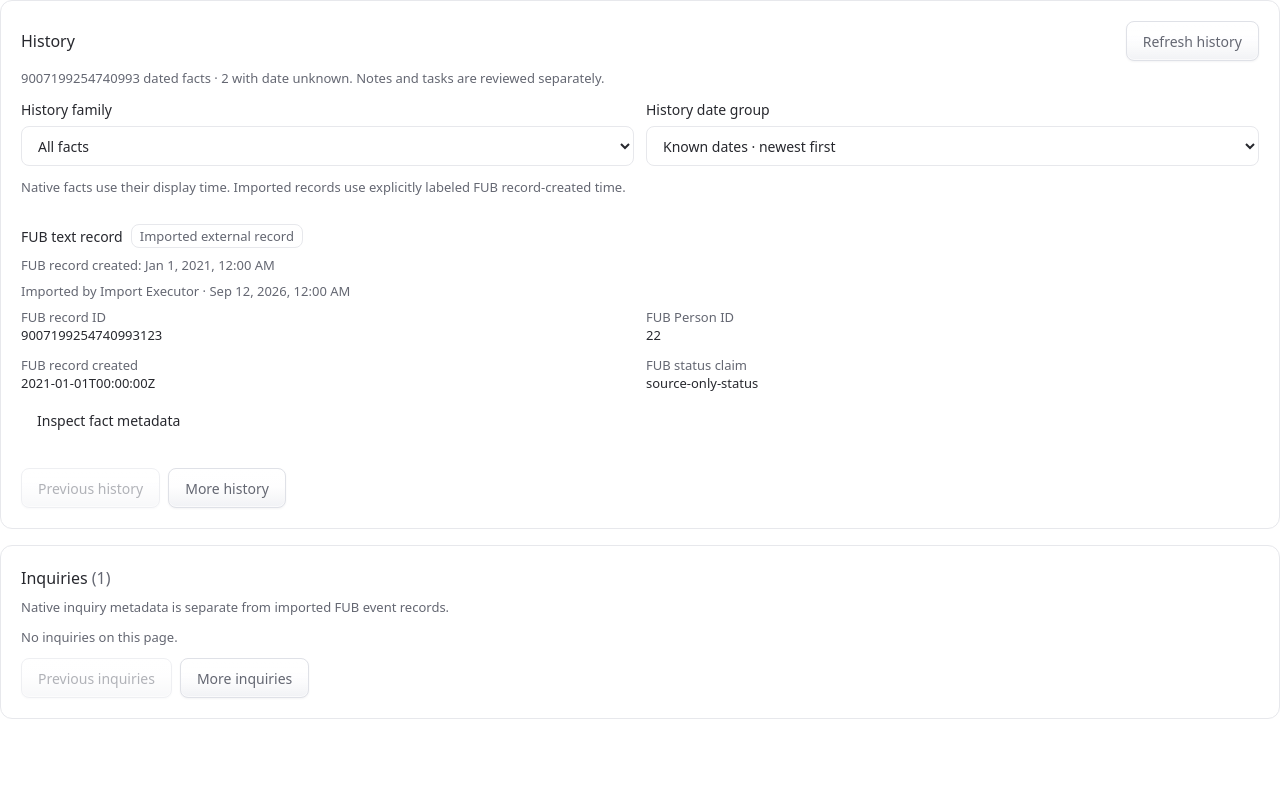
Scenario: bounded historical Person review › rejects a server revision mismatch and does not silently accept a newer first page
The width and height of the screenshot is (1280, 800).
Click the button "More history" at [227, 488], box [168,468,286,508]
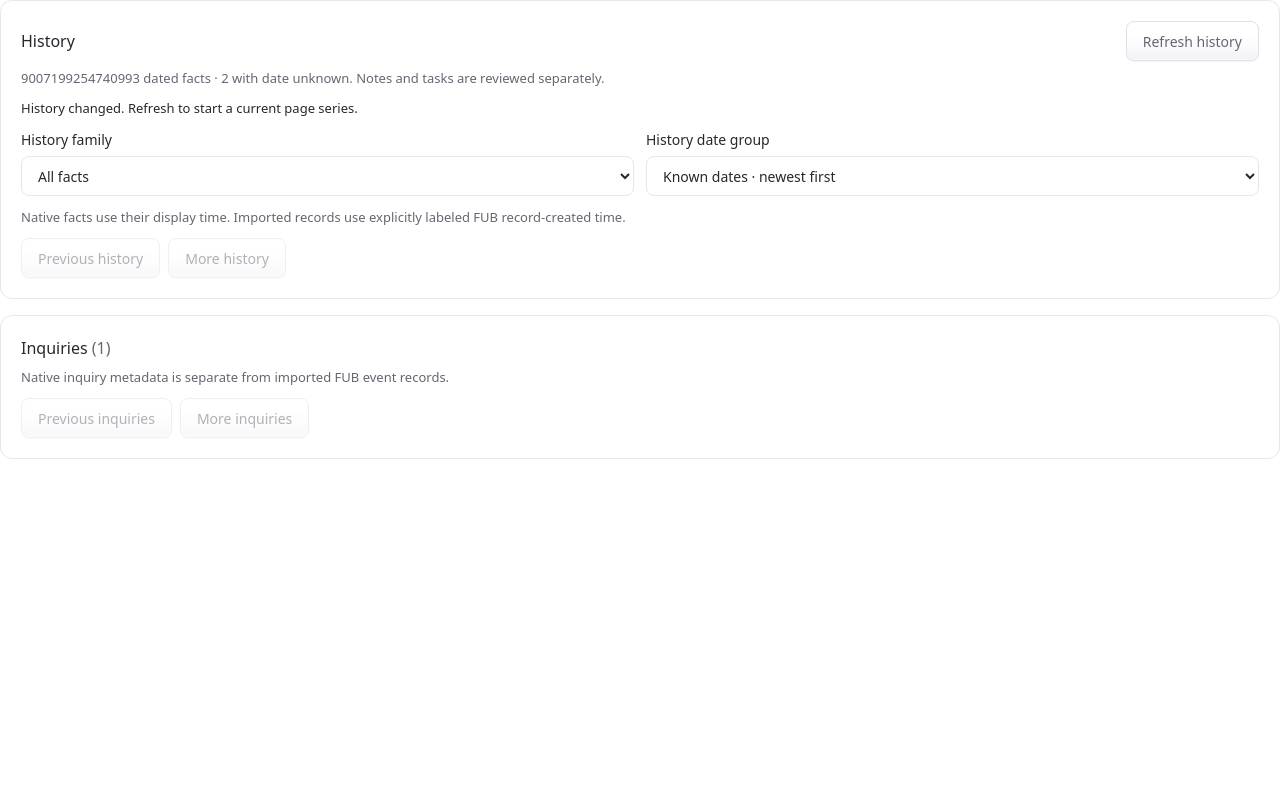
Result: the text "History changed. Refresh" is shown at [21,99,358,117]
Result: the text "source-only-status" is gone
